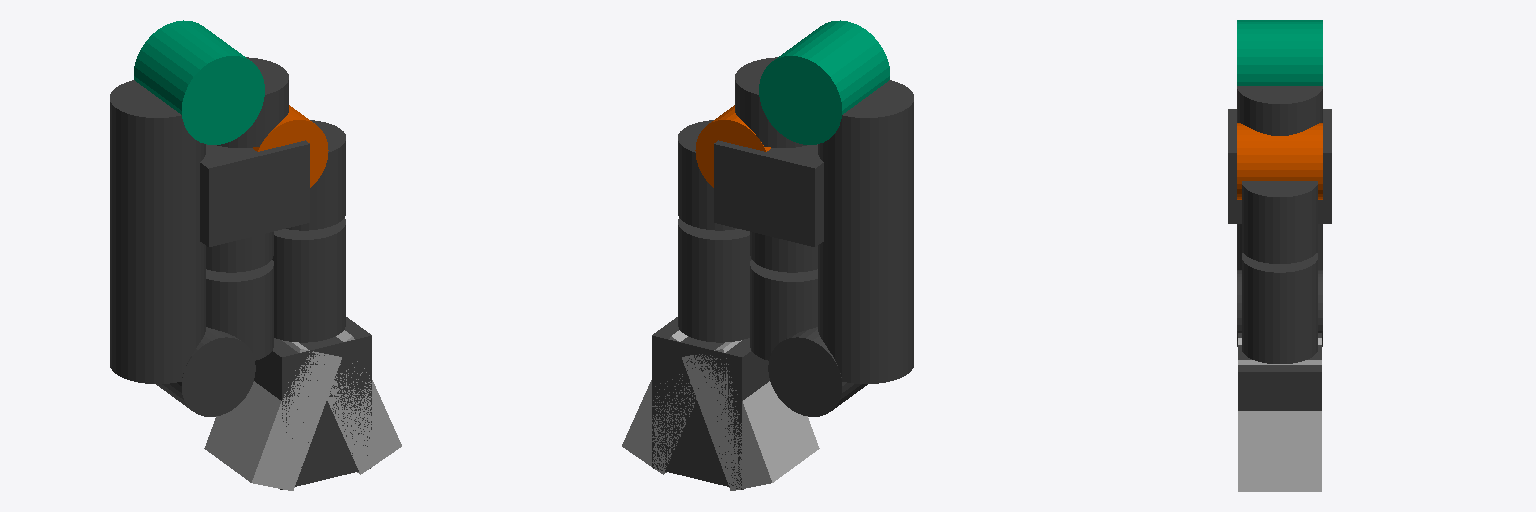
URDF robot description (rs2):
<?xml version="1.0" encoding="utf-8"?>
<!-- =================================================================================== -->
<!-- |    This document was autogenerated by xacro from test_rs2.urdf.xacro            | -->
<!-- |    EDITING THIS FILE BY HAND IS NOT RECOMMENDED                                 | -->
<!-- =================================================================================== -->
<robot name="rs2">
  <link name="base_link"/>
  <material name="black">
    <color rgba="0.3 0.3 0.3 1.0"/>
  </material>
  <joint name="rs2_joint" type="fixed">
    <origin rpy="0 0 0" xyz="0 0 0"/>
    <parent link="base_link"/>
    <child link="rs2_base_link"/>
  </joint>
  <link name="rs2_base_link">
    <visual>
      <origin xyz="0.055 0 0.04156"/>
      <geometry>
        <box size="0.112 0.110 0.08312"/>
      </geometry>
      <material name="black"/>
    </visual>
    <collision>
      <origin xyz="0.055 0 0.04156"/>
      <geometry>
        <box size="0.112 0.110 0.08312"/>
      </geometry>
    </collision>
  </link>
  <link name="rs2_1013_base">
    <visual>
      <origin xyz="0 0 0.0316"/>
      <geometry>
        <cylinder length="0.0532" radius="0.046"/>
      </geometry>
      <material name="black"/>
    </visual>
    <visual>
      <origin rpy="1.5707 0 0" xyz="-0.046 0 0.0632"/>
      <geometry>
        <cylinder length="0.092" radius="0.046"/>
      </geometry>
    </visual>
    <collision>
      <origin xyz="0 0 0.0316"/>
      <geometry>
        <cylinder length="0.0532" radius="0.046"/>
      </geometry>
    </collision>
    <collision>
      <origin rpy="1.5707 0 0" xyz="-0.046 0 0.0632"/>
      <geometry>
        <cylinder length="0.092" radius="0.046"/>
      </geometry>
    </collision>
  </link>
  <link name="rs2_1013_to_1015">
    <visual>
      <origin rpy="0 0 0" xyz="-0.046 0 -0.145275"/>
      <geometry>
        <cylinder length="0.28055" radius="0.046"/>
      </geometry>
      <material name="black"/>
    </visual>
    <visual>
      <material name="black"/>
      <origin rpy="1.5707 0 0" xyz="-0.0052 0 -0.29055"/>
      <geometry>
        <cylinder length="0.092" radius="0.041"/>
      </geometry>
    </visual>
    <collision>
      <origin rpy="0 0 0" xyz="-0.046 0 -0.145275"/>
      <geometry>
        <cylinder length="0.28055" radius="0.046"/>
      </geometry>
    </collision>
    <collision>
      <origin rpy="1.5707 0 0" xyz="-0.0052 0 -0.29055"/>
      <geometry>
        <cylinder length="0.092" radius="0.041"/>
      </geometry>
    </collision>
  </link>
  <link name="rs2_1015_Elbow">
    <visual>
      <origin rpy="0 0 0" xyz="0.0402 0 0.048255"/>
      <geometry>
        <cylinder length="0.08645" radius="0.041"/>
      </geometry>
      <material name="black"/>
    </visual>
    <collision>
      <origin rpy="0 0 0" xyz="0.0402 0 0.048255"/>
      <geometry>
        <cylinder length="0.08645" radius="0.041"/>
      </geometry>
    </collision>
  </link>
  <link name="rs2_1015_to_wrist">
    <visual>
      <origin rpy="0 0 0" xyz="0.00 0 0.05712"/>
      <geometry>
        <cylinder length="0.10424" radius="0.041"/>
      </geometry>
      <material name="black"/>
    </visual>
    <visual>
      <origin rpy="1.5707 0 0" xyz="0.0402 0 0.11424"/>
      <geometry>
        <cylinder length="0.092" radius="0.041"/>
      </geometry>
      <material name="orange"/>
    </visual>
    <collision>
      <origin rpy="0 0 0" xyz="0.00 0 0.05712"/>
      <geometry>
        <cylinder length="0.10424" radius="0.041"/>
      </geometry>
    </collision>
    <collision>
      <origin rpy="1.5707 0 0" xyz="0.0402 0 0.11424"/>
      <geometry>
        <cylinder length="0.092" radius="0.041"/>
      </geometry>
    </collision>
  </link>
  <link name="rs2_wrist">
    <visual>
      <origin rpy="0 0 0" xyz="0.0402 0 -0.044315"/>
      <geometry>
        <cylinder length="0.07863" radius="0.041"/>
      </geometry>
      <material name="black"/>
    </visual>
    <collision>
      <origin rpy="0 0 0" xyz="0.0402 0 -0.044315"/>
      <geometry>
        <cylinder length="0.07863" radius="0.041"/>
      </geometry>
    </collision>
  </link>
  <link name="rs2_gripper">
    <visual>
      <origin rpy="0 0 0" xyz="0.0 0 -0.059"/>
      <geometry>
        <cylinder length="0.108" radius="0.041"/>
      </geometry>
      <material name="black"/>
    </visual>
    <visual>
      <origin rpy="0 0 0" xyz="0.0 0 -0.188"/>
      <geometry>
        <box size="0.1 0.09 0.14"/>
      </geometry>
      <material name="black"/>
    </visual>
    <visual>
      <origin rpy="0 0.40 0" xyz="-0.033 0 -0.188"/>
      <geometry>
        <box size="0.05 0.09 0.14"/>
      </geometry>
    </visual>
    <visual>
      <origin rpy="0 -0.40 0" xyz="0.033 0 -0.188"/>
      <geometry>
        <box size="0.05 0.09 0.14"/>
      </geometry>
    </visual>
    <collision>
      <origin rpy="0 0 0" xyz="0.0 0 -0.059"/>
      <geometry>
        <cylinder length="0.108" radius="0.041"/>
      </geometry>
    </collision>
    <collision>
      <origin rpy="0 0 0" xyz="0.0 0 -0.188"/>
      <geometry>
        <box size="0.1 0.09 0.14"/>
      </geometry>
    </collision>
    <collision>
      <origin rpy="0 0.40 0" xyz="-0.033 0 -0.188"/>
      <geometry>
        <box size="0.05 0.09 0.14"/>
      </geometry>
    </collision>
    <collision>
      <origin rpy="0 -0.40 0" xyz="0.033 0 -0.188"/>
      <geometry>
        <box size="0.05 0.09 0.14"/>
      </geometry>
    </collision>
  </link>
  <link name="rs2_RS2_255_1">
        </link>
  <link name="rs2_RS2_255_2">
        </link>
  <link name="rs2_push_rod"/>
  <joint name="rs2_push_rod_joint" type="prismatic">
    <origin rpy="0 0 0" xyz="0 0 -0.118"/>
    <parent link="rs2_gripper"/>
    <child link="rs2_push_rod"/>
    <axis xyz="0 0 1"/>
    <limit effort="10" lower="0" upper="0.035" velocity="10"/>
  </joint>
  <joint name="rs2_gripper_joint_1" type="revolute">
    <parent link="rs2_gripper"/>
    <child link="rs2_RS2_255_2"/>
    <origin rpy="0 0 0" xyz="-0.033 0 -0.118"/>
    <axis xyz="0 1 0"/>
    <limit effort="9.0" lower="0.0" upper="0.5" velocity="0.5"/>
  </joint>
  <joint name="rs2_gripper_joint_2" type="revolute">
    <parent link="rs2_gripper"/>
    <child link="rs2_RS2_255_1"/>
    <origin rpy="0 0 0" xyz="0.033 0 -0.118"/>
    <axis xyz="0 -1 0"/>
    <limit effort="9.0" lower="0.0" upper="0.5" velocity="0.5"/>
    <mimic joint="rs2_gripper_joint_1" multiplier="1" offset="0"/>
  </joint>
  <joint name="rs2_joint_b" type="revolute">
    <parent link="rs2_wrist"/>
    <child link="rs2_gripper"/>
    <origin rpy="0 0 0" xyz="0.040 0 -0.08863"/>
    <axis xyz="0 0 1"/>
    <limit effort="9.0" lower="0.0" upper="6.3" velocity="0.5"/>
  </joint>
  <joint name="rs2_joint_c" type="revolute">
    <parent link="rs2_1015_to_wrist"/>
    <child link="rs2_wrist"/>
    <origin rpy="0 0 0" xyz="0.040 0 0.11424"/>
    <axis xyz="0 -1 0"/>
    <limit effort="9.0" lower="0.0" upper="3.2" velocity="0.5"/>
  </joint>
  <joint name="rs2_joint_d" type="revolute">
    <parent link="rs2_1015_Elbow"/>
    <child link="rs2_1015_to_wrist"/>
    <origin rpy="0 0 0" xyz="0.040 0 0.09645"/>
    <axis xyz="0 0 -1"/>
    <limit effort="9.0" lower="0.0" upper="6.3" velocity="0.5"/>
  </joint>
  <joint name="rs2_joint_e" type="revolute">
    <parent link="rs2_1013_to_1015"/>
    <child link="rs2_1015_Elbow"/>
    <origin rpy="0 0 0" xyz="-0.0052 0 -0.29055"/>
    <axis xyz="0 1 0"/>
    <limit effort="9.0" lower="0.0" upper="3.2" velocity="0.5"/>
  </joint>
  <joint name="rs2_joint_f" type="revolute">
    <parent link="rs2_1013_base"/>
    <child link="rs2_1013_to_1015"/>
    <origin rpy="0 0 0" xyz="-0.046 0 0.0632"/>
    <axis xyz="0 1 0"/>
    <limit effort="9.0" lower="0.0" upper="3.2" velocity="0.5"/>
  </joint>
  <joint name="rs2_joint_g" type="revolute">
    <parent link="rs2_base_link"/>
    <child link="rs2_1013_base"/>
    <origin rpy="0 0 0" xyz="0.0665 0 0.08312"/>
    <axis xyz="0 0 1"/>
    <limit effort="9.0" lower="0.0" upper="6.2" velocity="0.5"/>
  </joint>
</robot>

--- What the picture shows (computed from the rendered views, not written in the file) ---
The picture shows the robot from 3 angles, left to right: view 1: azimuth 30°, elevation 25°; view 2: azimuth 150°, elevation 25°; view 3: azimuth 270°, elevation 25°; orthographic projection.
Robot: rs2 — 11 links, 10 joints (8 revolute, 1 prismatic, 1 fixed); root link base_link; default pose: every joint at zero.
Links seen in each view (by area): view 1: rs2_1013_to_1015, rs2_gripper, rs2_1013_base, rs2_base_link, rs2_1015_Elbow, rs2_1015_to_wrist, rs2_wrist; view 2: rs2_1013_to_1015, rs2_gripper, rs2_1013_base, rs2_base_link, rs2_1015_Elbow, rs2_1015_to_wrist, rs2_wrist; view 3: rs2_gripper, rs2_1013_base, rs2_wrist, rs2_1015_to_wrist, rs2_base_link, rs2_1013_to_1015.
Boxes of the visible links, x1,y1,x2,y2 form: rs2_1013_to_1015: (110,80,255,416); rs2_gripper: (204,218,401,490); rs2_1013_base: (134,20,288,147); rs2_base_link: (200,140,309,246); rs2_1015_Elbow: (206,260,273,360); rs2_1015_to_wrist: (206,105,328,272); rs2_wrist: (286,120,345,230); rs2_1013_to_1015: (768,80,913,416); rs2_gripper: (622,218,819,490); rs2_1013_base: (735,20,889,147); rs2_base_link: (714,140,823,246); rs2_1015_Elbow: (750,260,817,360); rs2_1015_to_wrist: (695,105,817,272); rs2_wrist: (678,120,736,230); rs2_gripper: (1238,253,1321,491); rs2_1013_base: (1237,20,1322,135); rs2_wrist: (1242,181,1317,263); rs2_1015_to_wrist: (1237,123,1322,199); rs2_base_link: (1228,109,1331,223); rs2_1013_to_1015: (1237,224,1322,346).
Bounding box of the posed robot: 0.2901 × 0.11 × 0.4767 m (x, y, z).
Geometry: primitives only (box / cylinder / sphere), no mesh files.